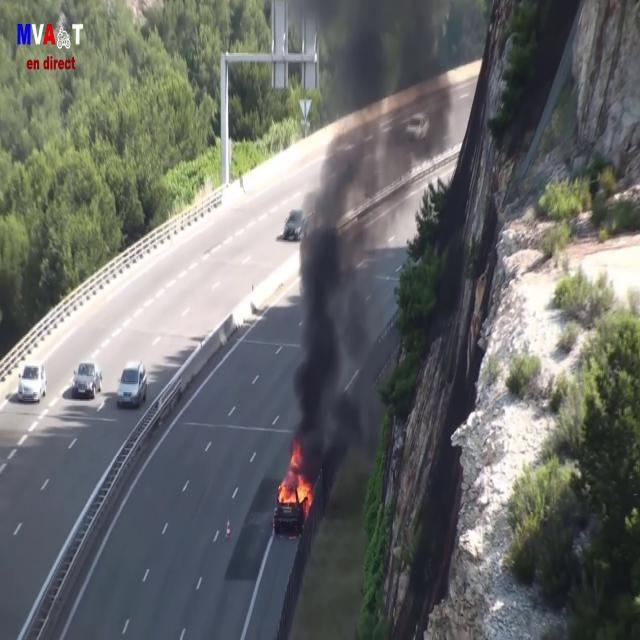Fire: (278, 441, 312, 514)
Smoke: (292, 1, 462, 448)
